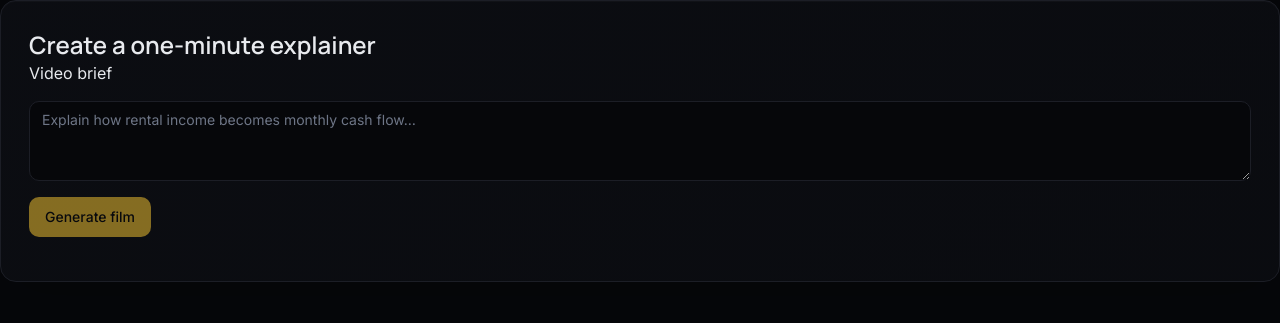
Test: keeps the form visible and retryable when an outdated service rejects the brief
In the text box labelled "Video brief": (640, 141) [29,101,1251,181], type "Explain rain."
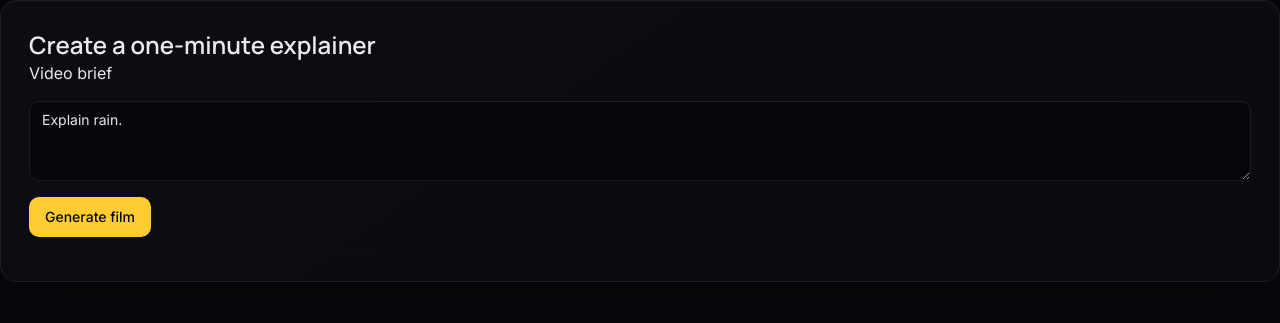
Click the button "Generate film": (90, 217) [29,197,151,237]
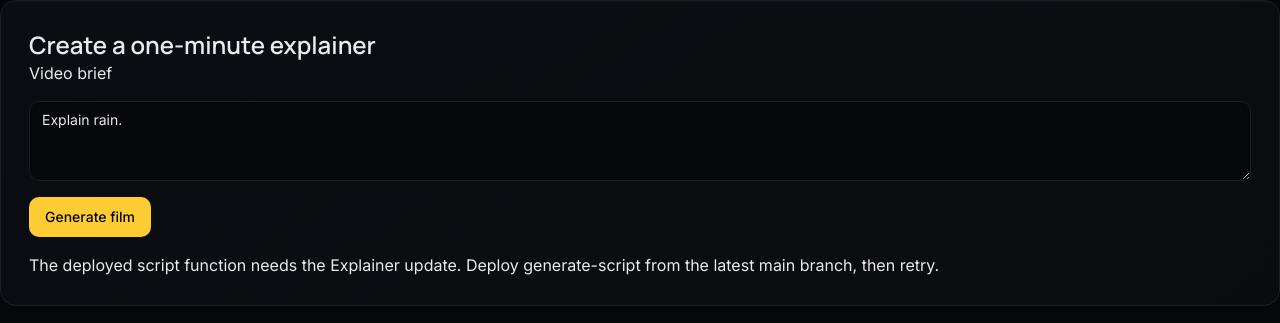
Expected: the button "Generate film" is enabled, [29,197,151,237]
Expected: the message shows "needs the Explainer update", [29,255,939,275]
